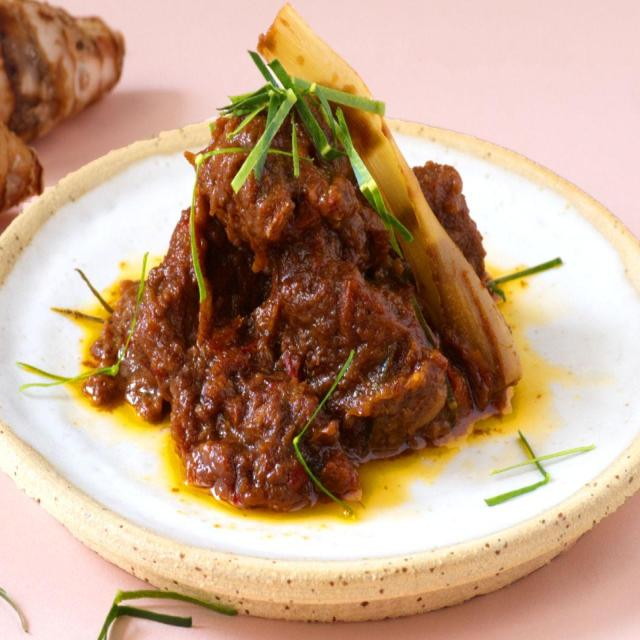Rendang: (101, 61, 540, 533)
